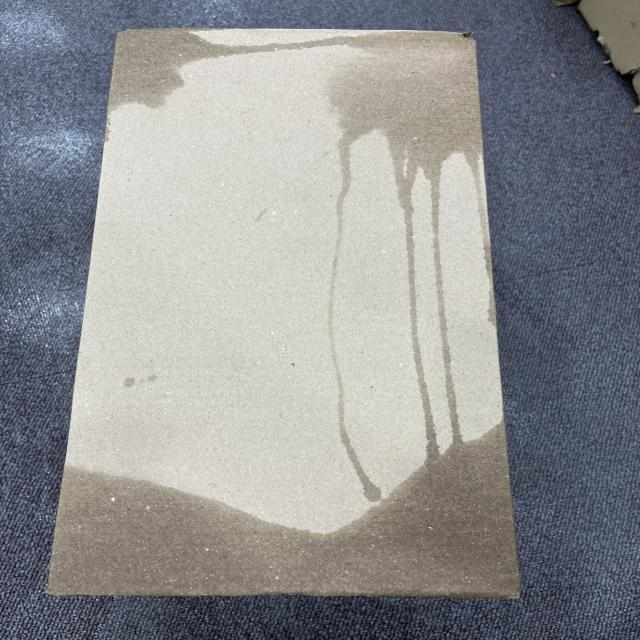wet: (62, 439, 526, 608), (328, 28, 487, 166), (102, 24, 214, 114)
